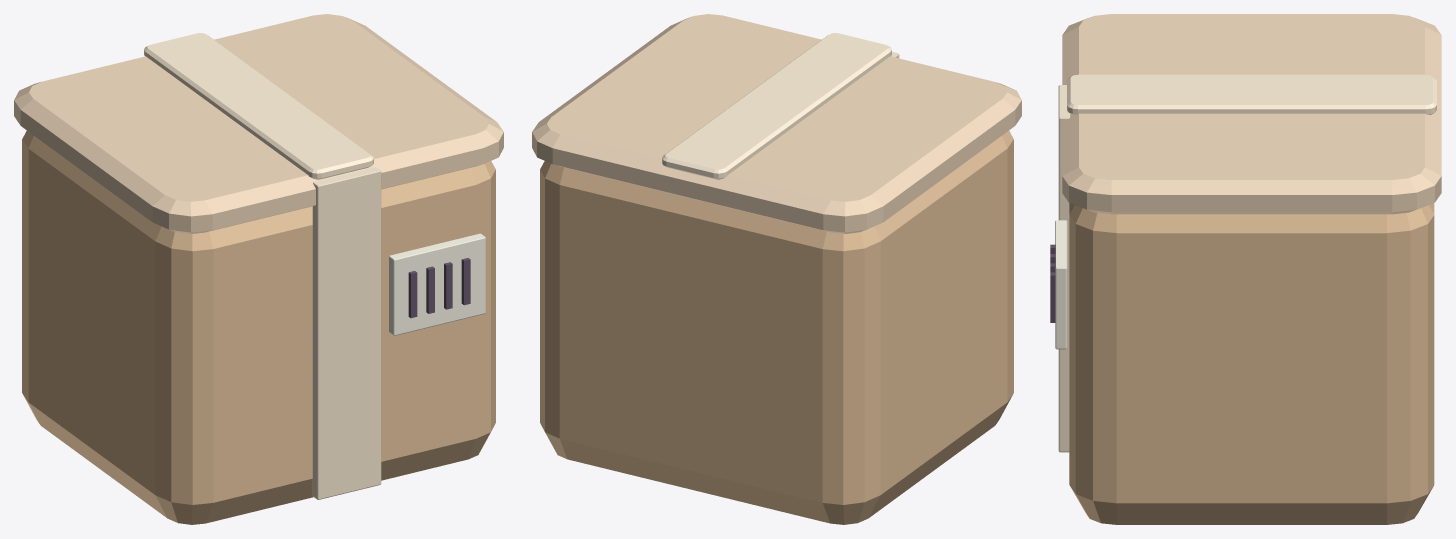
File: moving_box.glb
The picture shows the model from 3 angles, left to right: view 1: azimuth 30°, elevation 25°; view 2: azimuth 150°, elevation 25°; view 3: azimuth 270°, elevation 25°; orthographic projection. The views are drawn at different scales.
Visible parts, largest first — view 1: carton, lid, model, ribbon, label; view 2: carton, lid, ribbon; view 3: carton, lid, ribbon, model, label.
Boxes of the visible parts, x1,y1,x2,y2 form: carton: [22, 130, 495, 524]; lid: [14, 14, 503, 233]; model: [312, 167, 470, 499]; ribbon: [144, 33, 373, 179]; label: [389, 233, 485, 335]; carton: [540, 130, 1013, 524]; lid: [532, 14, 1021, 233]; ribbon: [662, 33, 891, 179]; carton: [1069, 203, 1434, 524]; lid: [1062, 14, 1441, 214]; ribbon: [1067, 74, 1436, 114]; model: [1050, 85, 1070, 452]; label: [1055, 220, 1067, 349].
Bounding box in the file's own units: 0.65 × 0.6 × 0.6.
